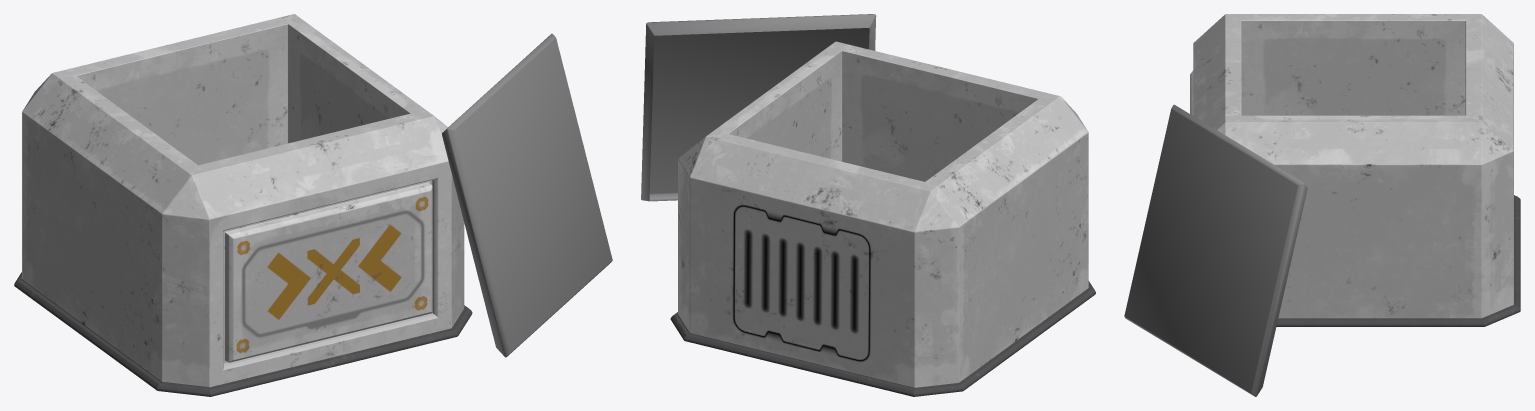
Rendered from storage_box.obj.
3 views of the same model, side by side, from view 1: azimuth 30°, elevation 25°; view 2: azimuth 150°, elevation 25°; view 3: azimuth 270°, elevation 25° (orthographic). The views are drawn at different scales.
Parts seen in each view (by area): view 1: Object128; view 2: Object128; view 3: Object128.
Part boxes in pixels (left/top/right/bottom): Object128: left=14, top=14, right=612, bottom=396; Object128: left=641, top=14, right=1095, bottom=396; Object128: left=1124, top=14, right=1520, bottom=396.
Size of the model in its own units: 1.49 by 0.656 by 1.18.
1 material, 1 textured.
